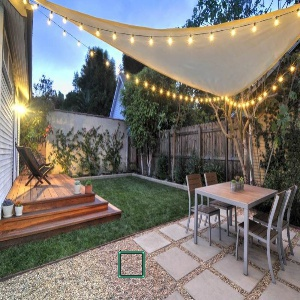square: (115, 248, 150, 282)
